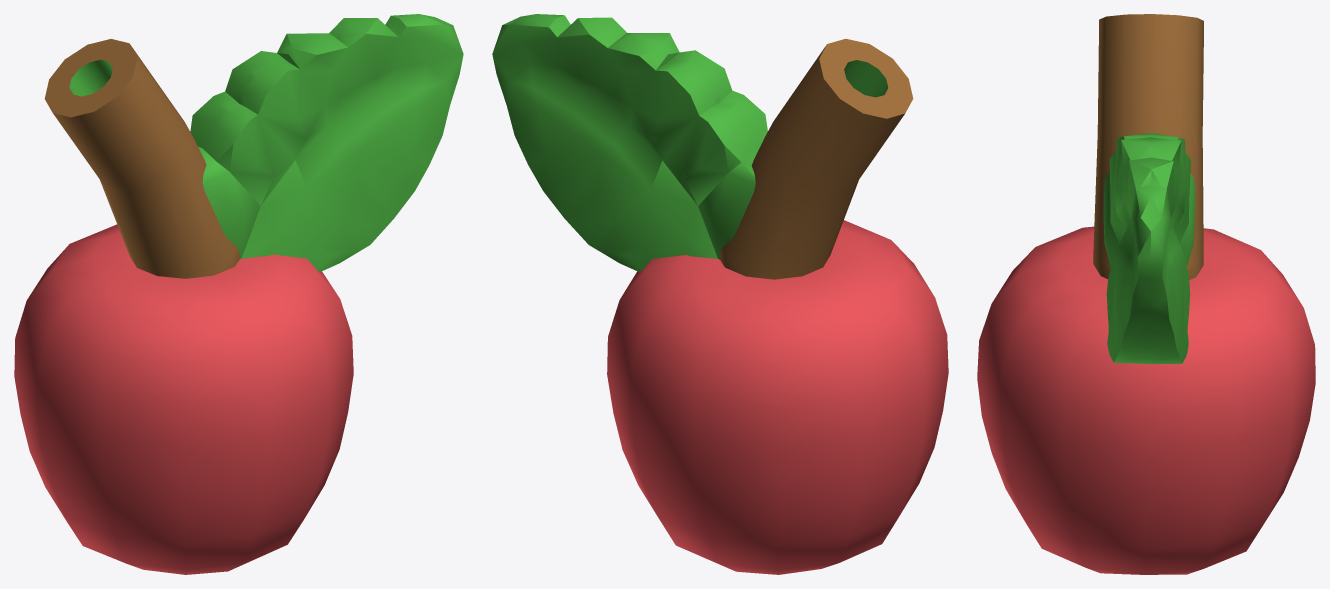
3 renders of one model, left to right at view 1: azimuth 30°, elevation 25°; view 2: azimuth 150°, elevation 25°; view 3: azimuth 270°, elevation 25°, orthographic.
Visible parts, largest first — view 1: SOLID-WHITE_012-material.003, SOLID-WHITE_012-material.001, SOLID-WHITE_012-material.002, SOLID-WHITE_012-material.081; view 2: SOLID-WHITE_012-material.003, SOLID-WHITE_012-material.001, SOLID-WHITE_012-material.002, SOLID-WHITE_012-material.081; view 3: SOLID-WHITE_012-material.003, SOLID-WHITE_012-material.001, SOLID-WHITE_012-material.002.
Part boxes in pixels (left/top/right/bottom): SOLID-WHITE_012-material.003: left=14, top=224, right=353, bottom=574; SOLID-WHITE_012-material.001: left=190, top=14, right=463, bottom=272; SOLID-WHITE_012-material.002: left=44, top=39, right=239, bottom=278; SOLID-WHITE_012-material.081: left=69, top=53, right=299, bottom=171; SOLID-WHITE_012-material.003: left=607, top=220, right=948, bottom=574; SOLID-WHITE_012-material.001: left=492, top=14, right=767, bottom=272; SOLID-WHITE_012-material.002: left=719, top=38, right=913, bottom=279; SOLID-WHITE_012-material.081: left=656, top=52, right=888, bottom=172; SOLID-WHITE_012-material.003: left=977, top=226, right=1315, bottom=574; SOLID-WHITE_012-material.001: left=1103, top=133, right=1195, bottom=363; SOLID-WHITE_012-material.002: left=1093, top=14, right=1203, bottom=279.
Size of the model in its own units: 190 by 218 by 132.
